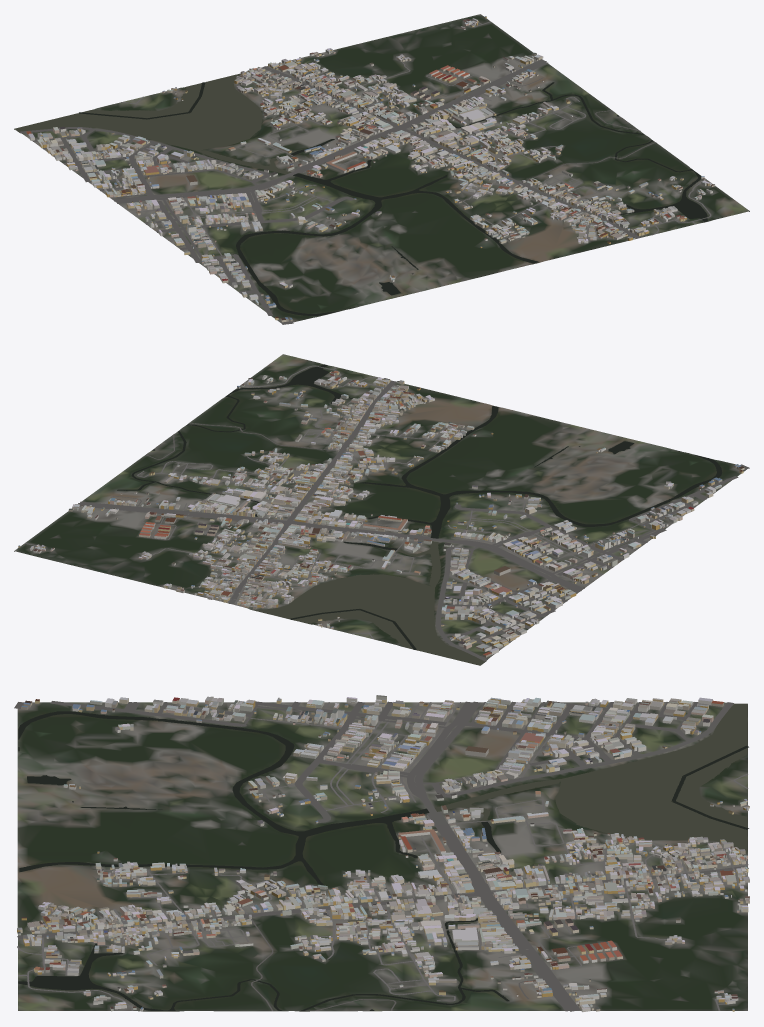
3 views of the same model, one above another, from view 1: azimuth 30°, elevation 25°; view 2: azimuth 150°, elevation 25°; view 3: azimuth 270°, elevation 25° (orthographic). The views are drawn at different scales.
Parts seen in each view (by area): view 1: ground, buildings, water, roads; view 2: ground, buildings, water, roads; view 3: ground, buildings, water, roads.
Boxes of the visible parts, box(x1,y1,x2,y2) form: ground: box(14, 14, 749, 324); buildings: box(26, 16, 715, 322); water: box(15, 73, 707, 315); roads: box(20, 21, 711, 324); ground: box(14, 354, 749, 665); buildings: box(18, 371, 744, 657); water: box(117, 364, 722, 665); roads: box(24, 365, 749, 660); ground: box(17, 702, 747, 1011); buildings: box(17, 695, 749, 1012); water: box(18, 703, 748, 1010); roads: box(14, 700, 748, 1011).
Bounding box in the file's own units: 1415 × 24.39 × 1412.
